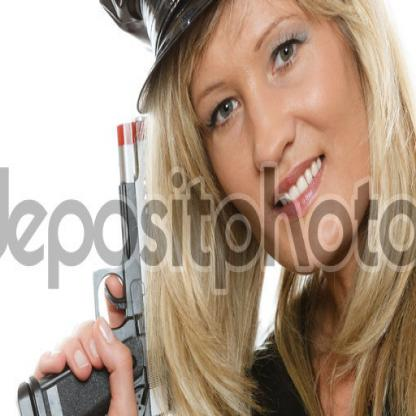gun: (25, 92, 189, 414)
